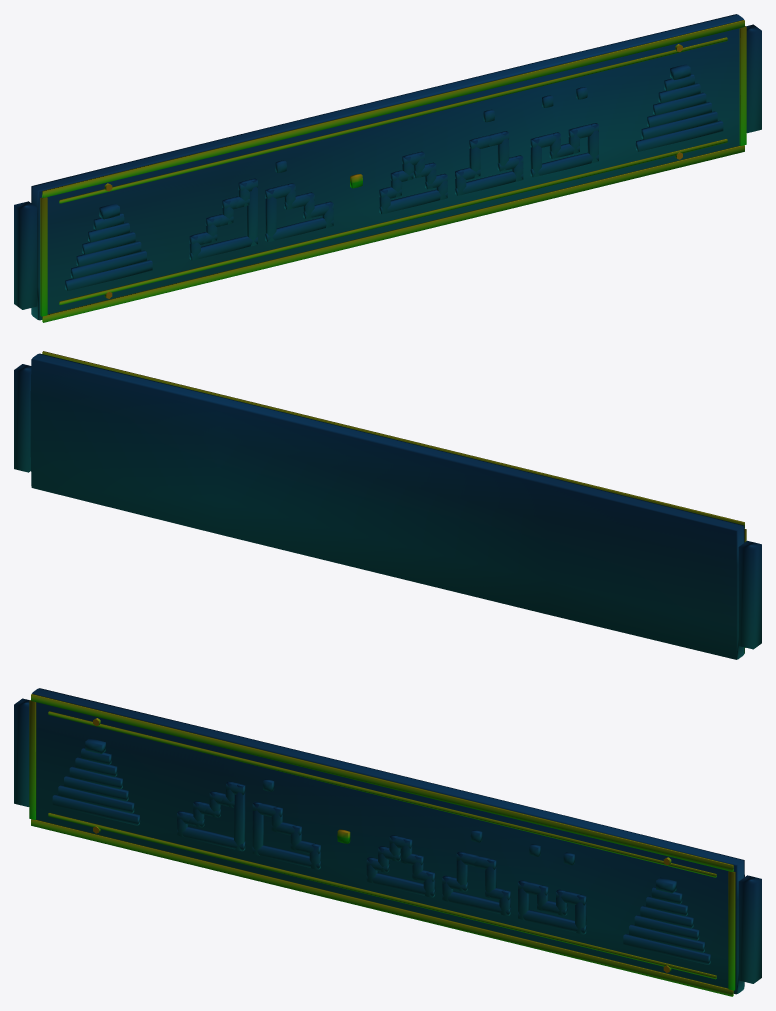
File: terrace_name_board.glb
3 views of the same model, one above another, from view 1: azimuth 30°, elevation 25°; view 2: azimuth 150°, elevation 25°; view 3: azimuth 330°, elevation 25° (orthographic).
Parts seen in each view (by area): view 1: terrace_name_board; view 2: terrace_name_board; view 3: terrace_name_board.
Boxes of the visible parts, x1,y1,x2,y2 form: terrace_name_board: (14, 14, 761, 322); terrace_name_board: (14, 351, 761, 659); terrace_name_board: (14, 688, 761, 996).
Size of what is drawn, in the model's own units: 2.59 by 0.4404 by 0.0879.
